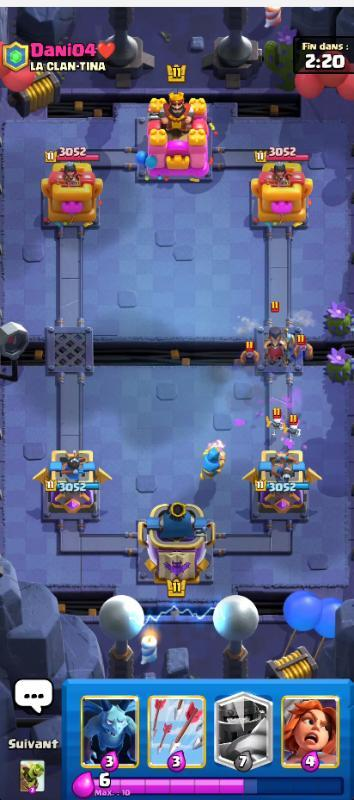enemy_bats: (235, 340, 262, 368), (288, 334, 315, 362)
enemy_night_witch: (258, 323, 291, 373)
enemy_skeletons: (263, 408, 286, 433), (283, 413, 304, 438)
player_wizard: (193, 433, 232, 486)
